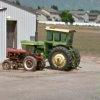Tractor: (15, 20, 86, 75)
